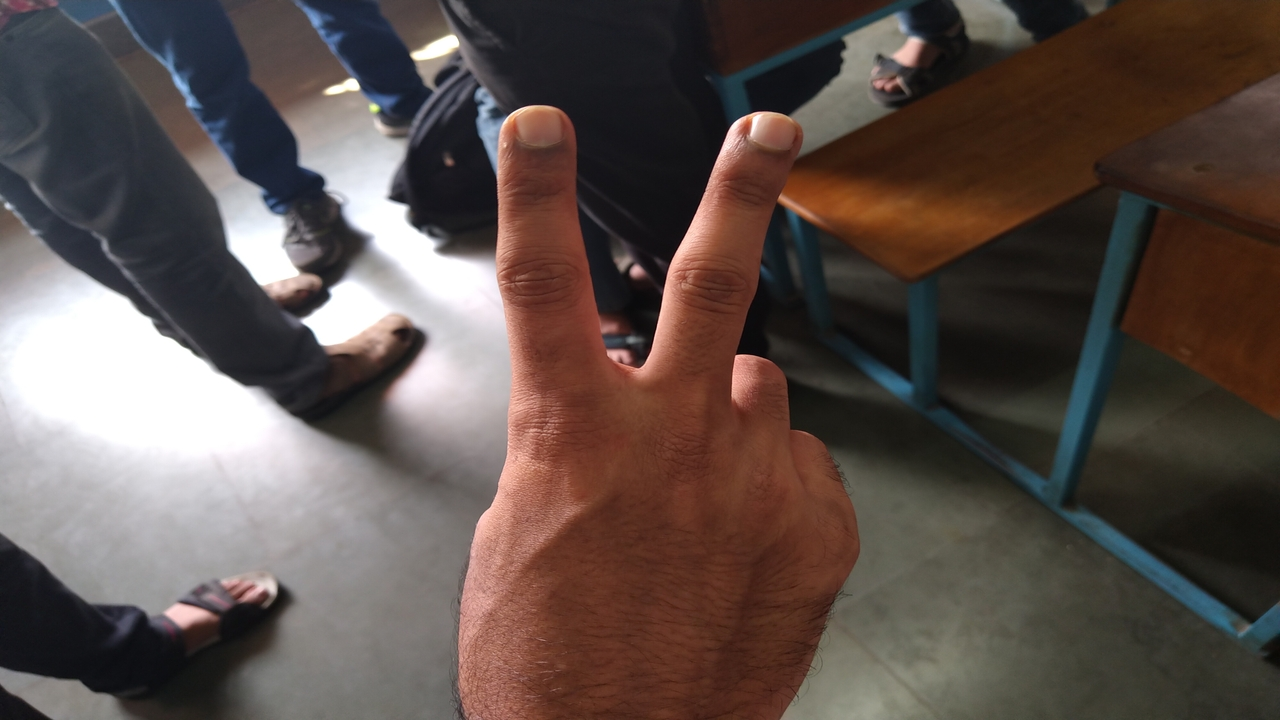fingertip: (722, 104, 808, 170), (494, 102, 566, 172)
